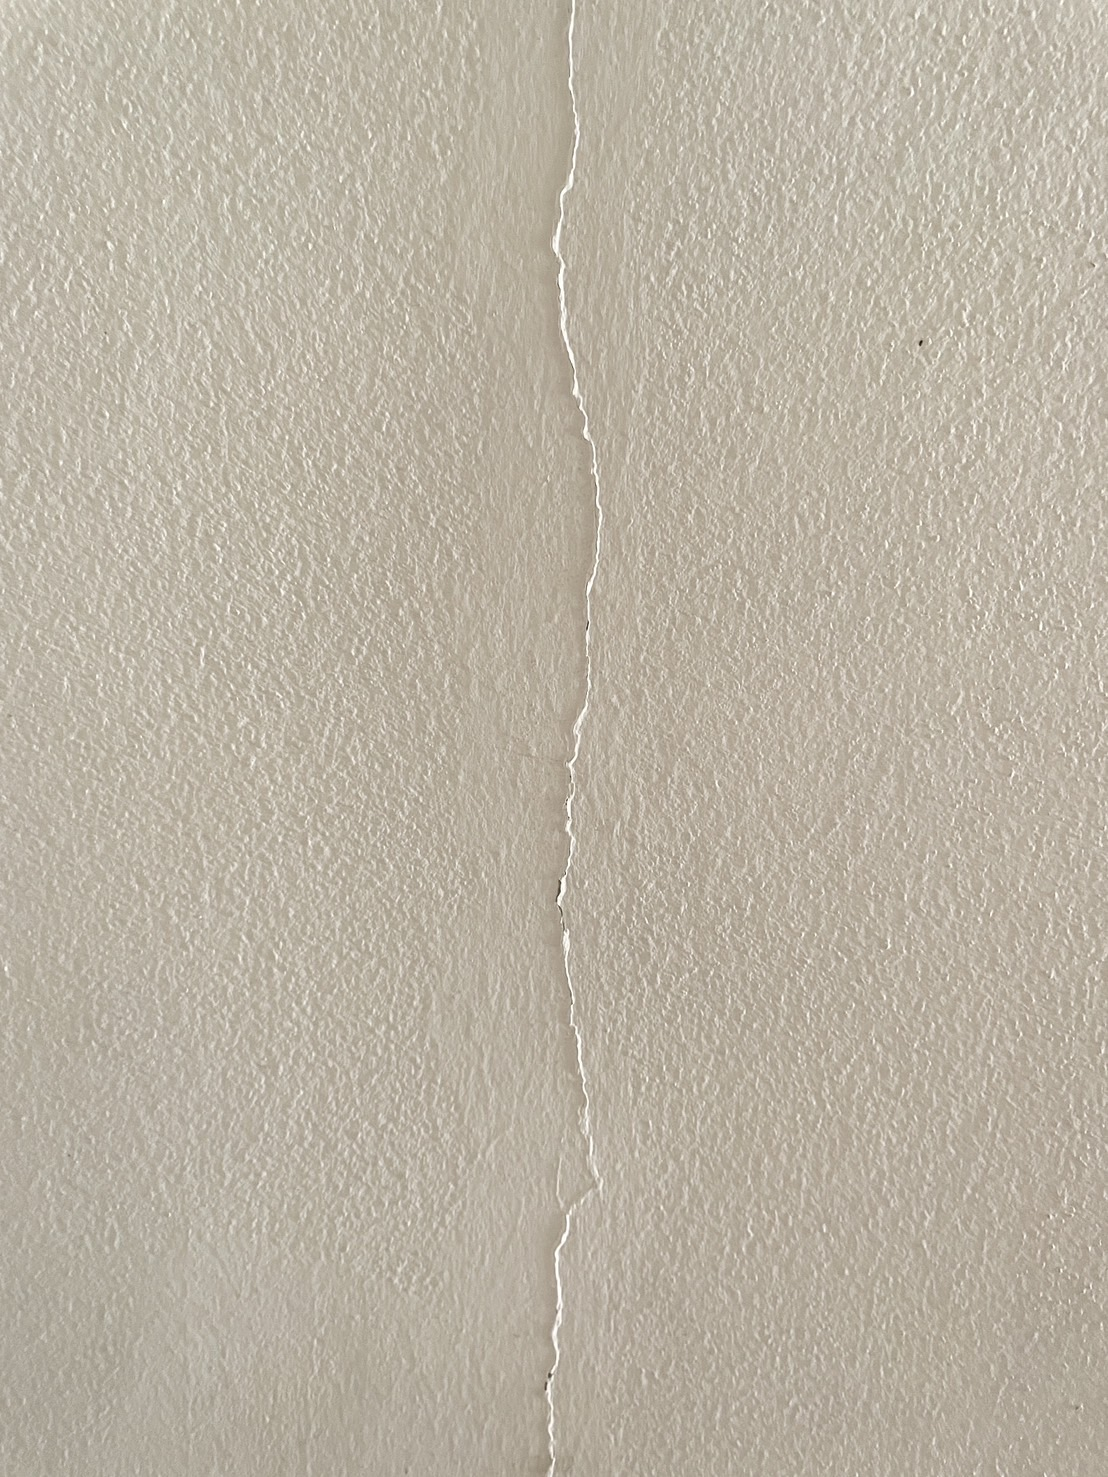Low: (523, 1, 603, 1462)
